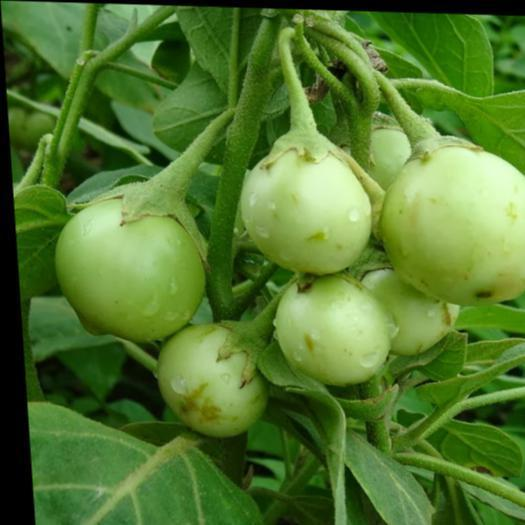eggplant: (6, 108, 324, 443), (345, 62, 524, 324), (215, 33, 370, 277), (248, 264, 455, 396)
